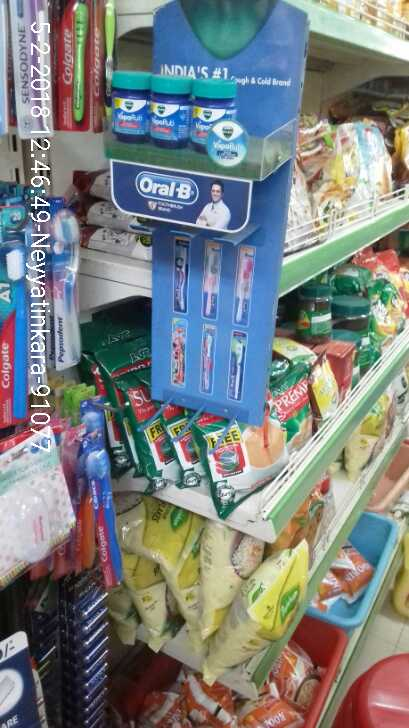pharmacy: (194, 80, 240, 156), (149, 73, 191, 148), (110, 69, 148, 142)
